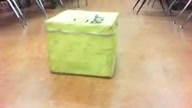cube: (44, 9, 119, 79)
